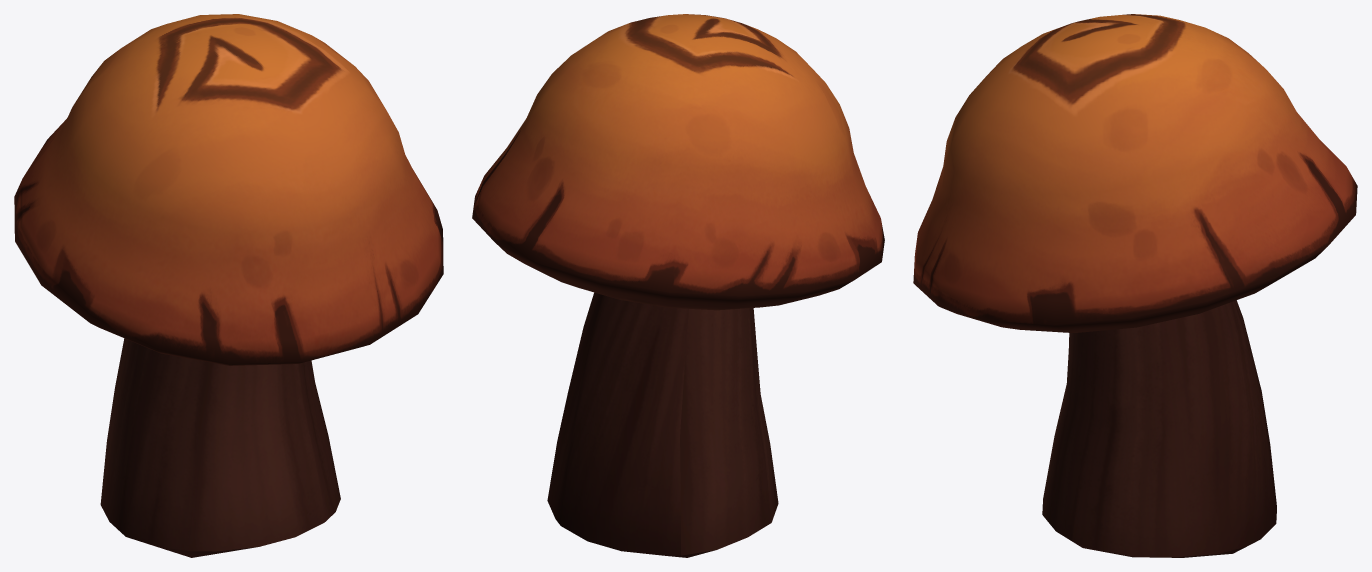
Rendered from big_mushroom.fbx.
3 views of the same model, side by side, from view 1: azimuth 30°, elevation 25°; view 2: azimuth 150°, elevation 25°; view 3: azimuth 270°, elevation 25° (orthographic). The views are drawn at different scales.
Visible parts, largest first — view 1: big_mushroom; view 2: big_mushroom; view 3: big_mushroom.
Boxes of the visible parts, x1=… form: big_mushroom: x1=14, y1=14, x2=443, y2=557; big_mushroom: x1=472, y1=14, x2=884, y2=557; big_mushroom: x1=913, y1=14, x2=1357, y2=557.
Size of the model in its own units: 2.21 by 2.88 by 2.3.
